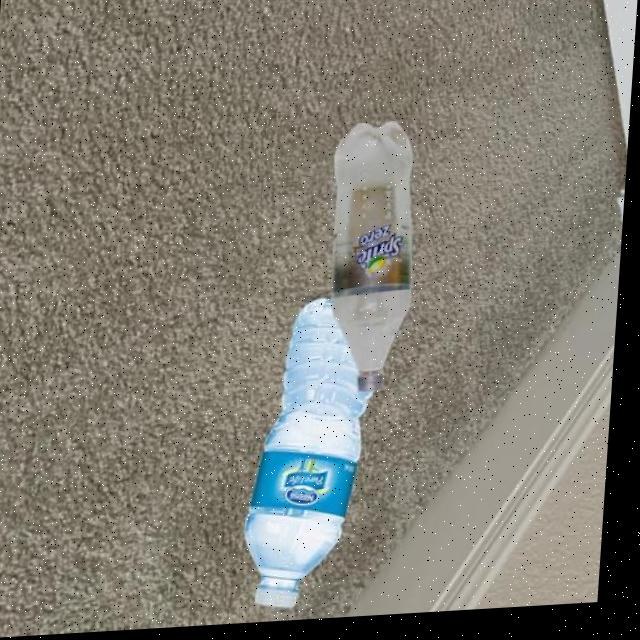bottle: (246, 122, 428, 616), (323, 122, 427, 397)
